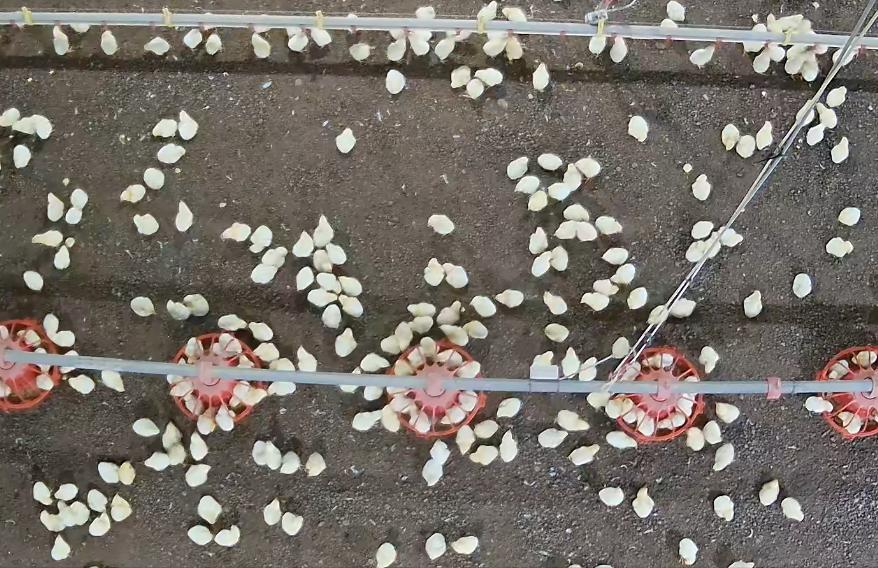chick: (234, 379, 264, 406), (441, 263, 470, 289), (633, 486, 655, 520), (176, 109, 200, 140), (555, 411, 590, 432), (184, 462, 211, 489), (248, 224, 273, 253), (211, 331, 240, 356), (52, 25, 76, 55), (198, 494, 222, 524), (421, 457, 444, 488), (196, 403, 218, 435), (604, 431, 639, 451), (423, 532, 447, 561), (313, 215, 334, 248), (742, 290, 765, 320), (304, 451, 329, 478), (542, 289, 567, 316), (481, 33, 509, 57), (337, 294, 365, 318), (214, 524, 242, 548), (448, 535, 480, 556), (439, 322, 468, 345), (580, 291, 609, 314), (712, 443, 735, 472), (742, 22, 764, 52), (569, 443, 599, 465), (495, 288, 526, 309), (690, 44, 716, 69), (576, 157, 601, 183), (626, 114, 648, 143), (677, 537, 699, 566), (351, 409, 381, 430), (468, 444, 498, 465), (655, 409, 685, 430), (437, 300, 462, 325), (249, 33, 273, 59), (338, 367, 362, 393), (816, 102, 839, 129), (455, 424, 475, 455), (264, 438, 282, 472), (751, 45, 772, 74), (157, 143, 186, 164), (45, 192, 66, 221), (285, 30, 310, 54), (100, 369, 125, 393), (280, 451, 304, 476), (539, 428, 569, 448), (837, 408, 861, 433), (385, 35, 408, 61), (183, 294, 209, 317), (98, 30, 120, 57), (427, 213, 454, 235), (133, 214, 160, 236), (217, 402, 235, 435), (39, 510, 66, 532), (376, 541, 398, 568), (610, 264, 637, 286), (577, 355, 599, 382), (713, 494, 735, 521), (32, 230, 63, 249), (175, 200, 194, 231), (336, 326, 355, 357), (314, 272, 342, 293), (475, 68, 504, 88), (390, 394, 419, 414), (636, 406, 656, 435), (448, 65, 471, 90), (280, 512, 305, 535), (826, 237, 852, 259), (717, 226, 743, 248), (471, 295, 497, 317), (671, 296, 697, 318), (604, 395, 630, 417), (831, 134, 850, 164), (220, 223, 250, 242), (424, 256, 443, 286), (436, 34, 457, 61), (794, 98, 815, 125), (261, 245, 288, 266), (143, 451, 170, 472), (111, 495, 132, 522), (419, 336, 440, 363), (598, 486, 625, 507), (760, 479, 781, 506), (562, 346, 579, 379), (596, 215, 624, 235), (132, 416, 160, 436), (251, 264, 279, 284), (298, 344, 318, 372), (183, 335, 203, 363), (381, 403, 401, 431), (307, 288, 338, 306), (803, 51, 818, 88), (310, 26, 333, 50), (89, 513, 112, 537), (781, 497, 804, 521), (361, 352, 390, 371), (395, 322, 414, 351), (57, 349, 79, 374), (183, 390, 205, 415), (166, 373, 191, 395), (456, 388, 478, 413), (347, 42, 373, 63), (531, 251, 552, 277), (292, 231, 313, 257), (386, 68, 406, 95), (720, 124, 740, 151), (119, 184, 146, 204), (68, 373, 95, 393), (190, 430, 208, 460), (454, 359, 481, 379), (496, 398, 523, 418), (600, 247, 630, 265), (700, 346, 720, 373), (691, 173, 710, 201), (529, 226, 548, 254), (507, 156, 529, 180), (326, 242, 348, 266), (87, 489, 109, 513), (500, 429, 516, 462), (837, 206, 862, 227), (166, 300, 191, 321), (167, 443, 188, 468), (430, 440, 451, 465), (532, 63, 550, 92), (756, 121, 774, 150), (162, 421, 180, 450), (322, 302, 342, 328), (253, 341, 279, 361), (473, 419, 499, 439), (505, 36, 524, 63), (130, 296, 157, 315), (714, 403, 741, 422), (641, 353, 675, 368), (826, 85, 848, 108), (32, 116, 55, 138), (97, 462, 120, 484), (674, 394, 697, 416), (143, 37, 171, 55), (53, 243, 71, 271), (15, 329, 43, 347), (188, 526, 212, 547), (264, 498, 282, 526), (151, 118, 176, 138), (339, 275, 364, 295), (50, 534, 70, 559), (544, 323, 569, 343), (204, 31, 223, 57), (609, 36, 628, 62), (792, 272, 811, 298), (31, 346, 50, 372), (408, 315, 434, 334), (564, 162, 581, 191), (591, 280, 620, 297), (269, 356, 296, 374), (526, 189, 548, 211), (409, 34, 430, 57), (833, 47, 856, 68), (548, 180, 569, 203), (410, 408, 431, 431), (183, 28, 203, 52), (784, 52, 804, 76), (553, 221, 577, 241), (314, 250, 334, 274), (33, 481, 53, 505), (704, 232, 721, 260), (295, 266, 314, 291), (551, 246, 569, 272), (13, 144, 31, 170), (685, 425, 703, 451), (407, 301, 436, 317), (647, 304, 669, 325), (69, 502, 89, 525), (628, 286, 648, 309), (805, 396, 832, 413), (690, 220, 714, 239), (515, 175, 539, 194), (464, 320, 488, 339), (337, 128, 355, 153), (248, 322, 273, 340), (850, 350, 878, 366), (563, 205, 589, 222), (50, 330, 76, 347), (665, 1, 686, 22), (144, 168, 164, 190), (777, 14, 801, 32), (737, 135, 755, 159), (536, 154, 563, 170), (12, 117, 36, 135), (218, 314, 245, 330), (57, 501, 75, 525), (443, 407, 468, 424), (267, 381, 297, 395), (393, 356, 414, 376), (703, 421, 722, 443), (118, 462, 136, 485), (436, 349, 460, 366), (502, 6, 527, 22), (252, 441, 268, 466), (807, 124, 826, 145), (685, 242, 706, 261), (575, 222, 596, 241), (828, 359, 849, 378), (465, 78, 483, 100), (362, 384, 385, 401), (623, 397, 638, 423), (69, 189, 89, 208), (55, 483, 78, 499), (612, 335, 628, 358), (0, 107, 18, 127), (66, 206, 84, 226), (23, 272, 43, 290), (380, 335, 401, 352), (588, 391, 609, 408), (765, 12, 783, 31), (236, 354, 256, 371), (590, 36, 606, 57), (533, 351, 555, 366), (406, 349, 423, 368), (385, 381, 408, 395), (44, 312, 58, 334), (34, 373, 52, 390), (414, 6, 434, 21), (770, 41, 784, 61), (69, 23, 92, 33), (660, 18, 677, 29)
rice: (387, 342, 489, 437), (605, 345, 704, 442), (169, 330, 266, 424)
